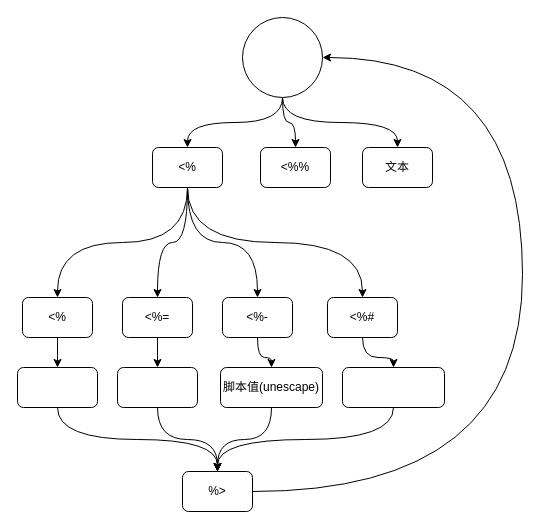
Some shapes in this 540 by 529 pixel diagram are drawn without their labels. The shapes that lost their labels are listed below. From the top down, each one's box as (x1, y1, x2, y2) in pixels, then its label:
(242, 16, 322, 98): 开始
(16, 366, 98, 408): 脚本(不输出)
(116, 366, 198, 408): 脚本值
(342, 366, 444, 408): 注释
